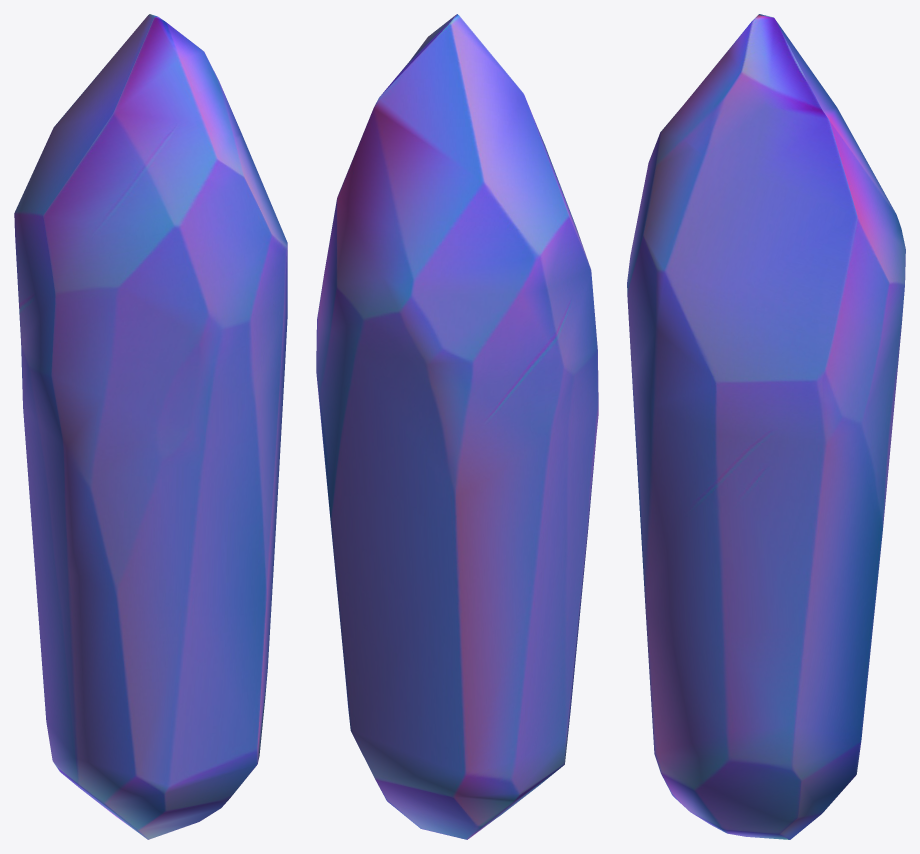
Rendered from MagicStoneSecond2.FBX.
3 renders of one model, left to right at view 1: azimuth 30°, elevation 25°; view 2: azimuth 150°, elevation 25°; view 3: azimuth 270°, elevation 25°, orthographic.
Parts seen in each view (by area): view 1: Obj3d66-7719707-7-219; view 2: Obj3d66-7719707-7-219; view 3: Obj3d66-7719707-7-219.
Part boxes in pixels (bbox=[...]): Obj3d66-7719707-7-219: bbox=[14, 14, 287, 839]; Obj3d66-7719707-7-219: bbox=[316, 14, 598, 839]; Obj3d66-7719707-7-219: bbox=[627, 14, 905, 839].
Bounding box in the file's own units: 602 × 2000 × 620.
Materials: 1 (1 with a texture image).
